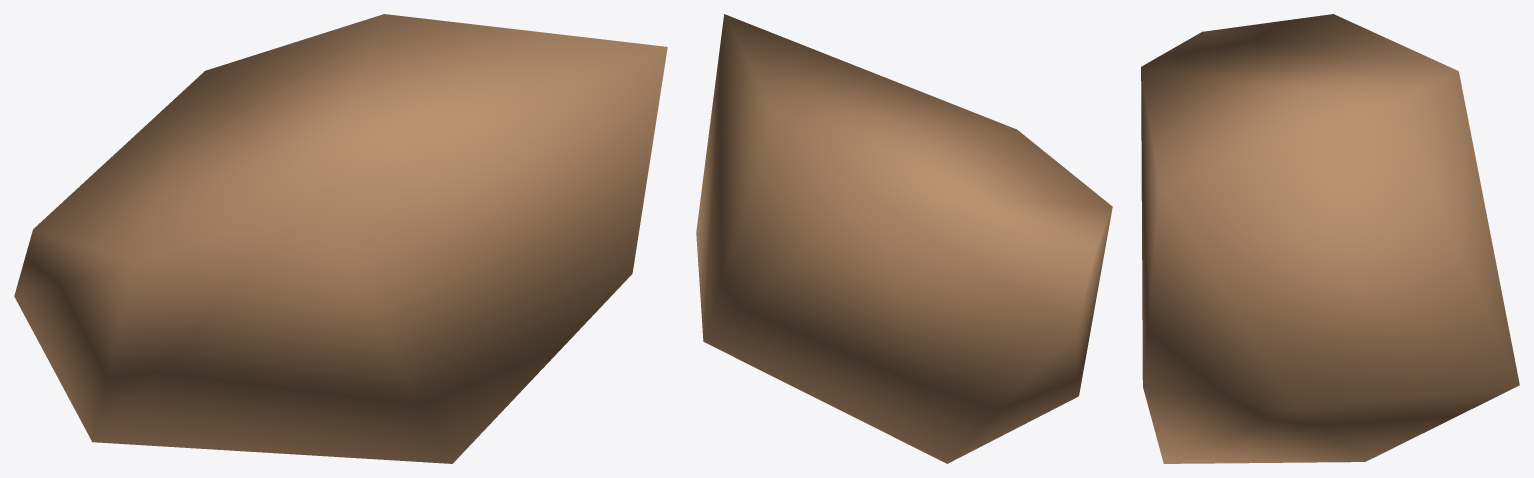
File: MSH_Rock_Single_27.FBX
The picture shows the model from 3 angles, left to right: view 1: azimuth 30°, elevation 25°; view 2: azimuth 150°, elevation 25°; view 3: azimuth 270°, elevation 25°; orthographic projection. The views are drawn at different scales.
Parts seen in each view (by area): view 1: MESH_ROCK_03; view 2: MESH_ROCK_03; view 3: MESH_ROCK_03.
Part boxes in pixels (bbox=[...]): MESH_ROCK_03: bbox=[14, 14, 667, 463]; MESH_ROCK_03: bbox=[696, 14, 1112, 463]; MESH_ROCK_03: bbox=[1141, 14, 1519, 463].
Bounding box in the file's own units: 6.97 × 4.56 × 3.9.
